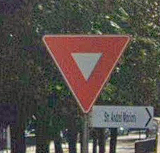cedeaza: (39, 32, 131, 114)
